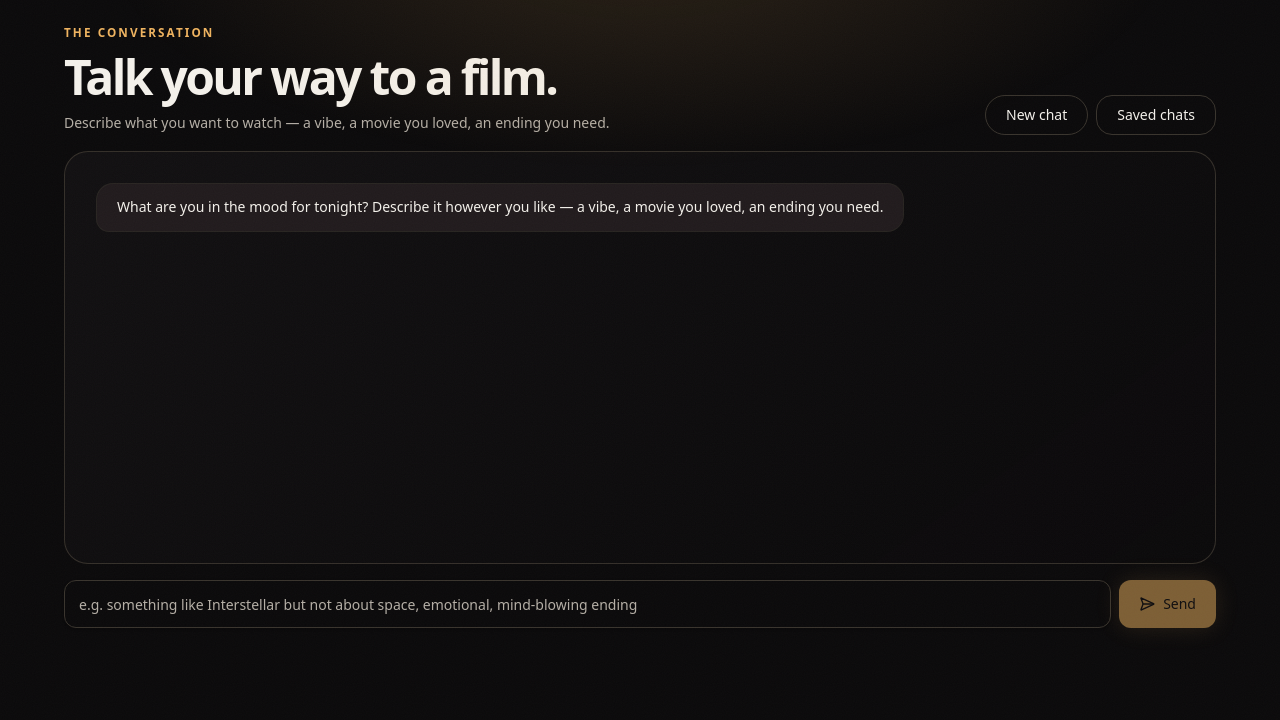
AI chat › opens an account conversation from saved history
This screenshot has width=1280, height=720.
Expected: the field named "Chat message" is enabled, [64,580,1111,628]
Click the button "Saved chats". click: (1156, 115)
box: [1096,95,1216,135]
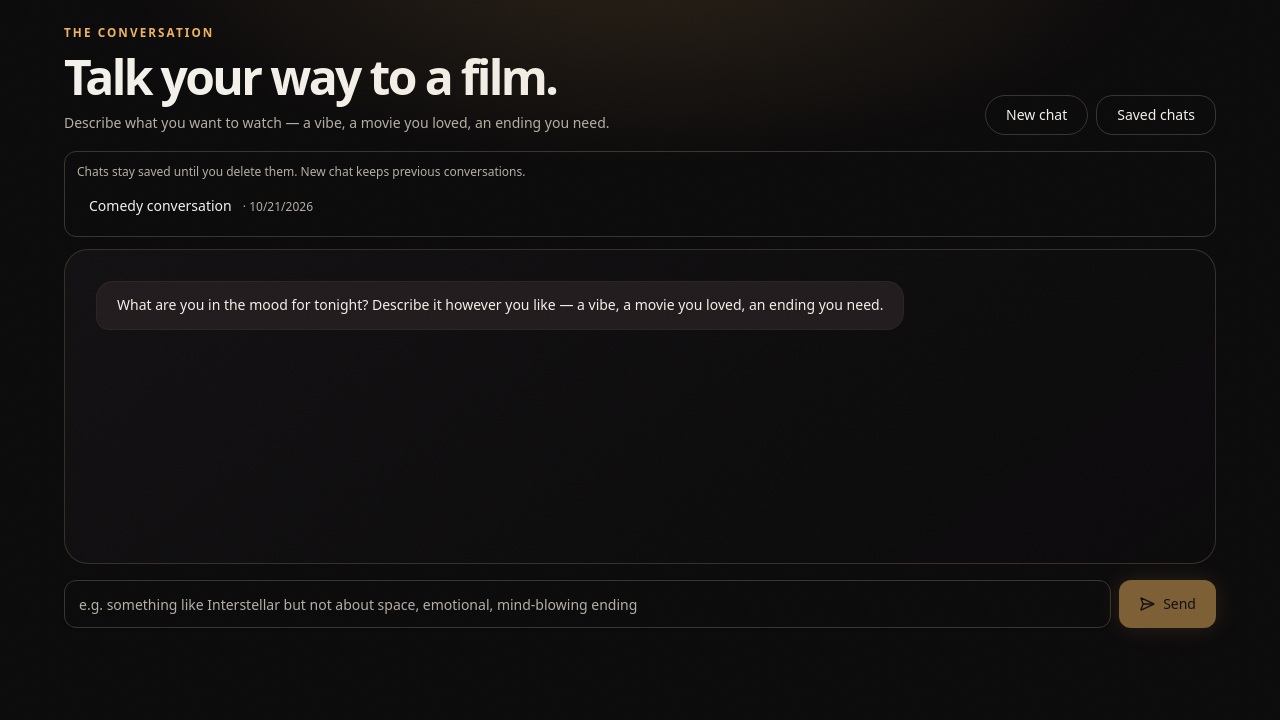
Click the button "Comedy conversation · 10/21/2026". click: (160, 205)
box: [77,188,1203,224]
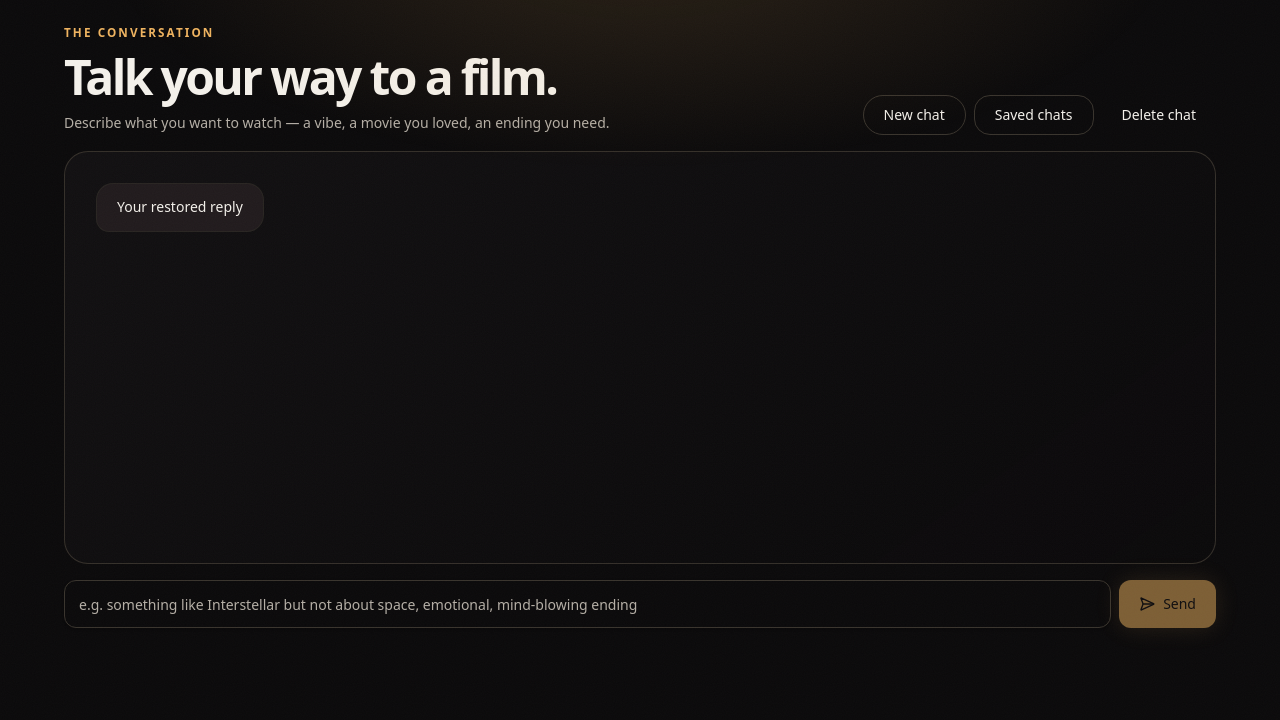
Now the text "Your restored reply" is shown, box [97,184,263,231]
